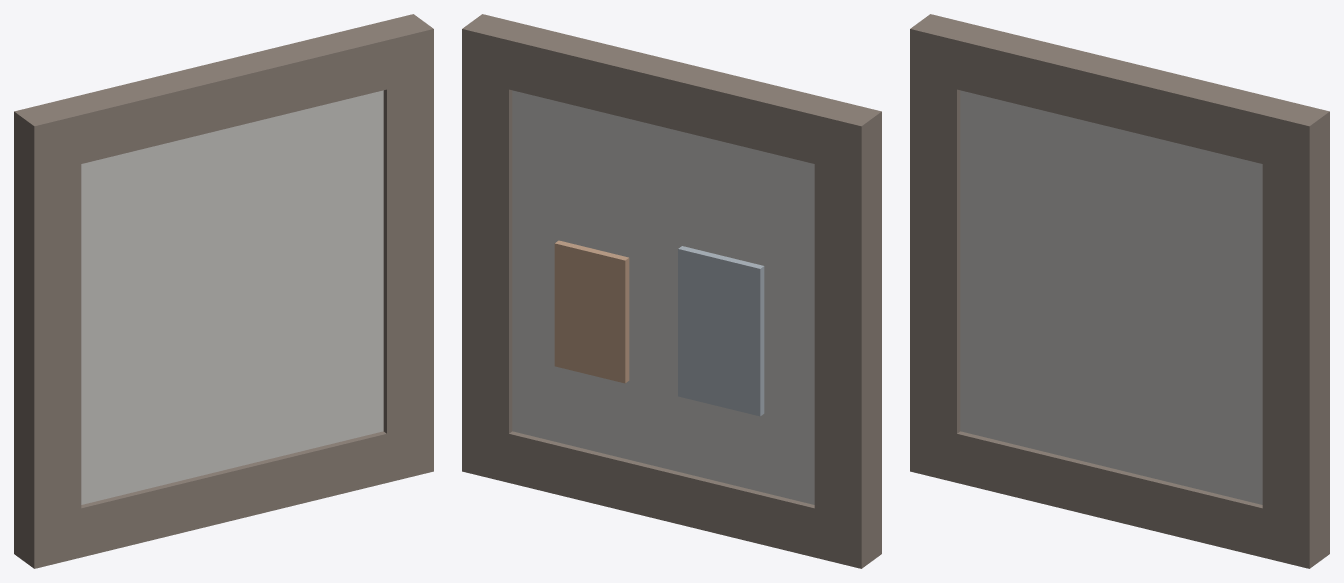
File: arte_foto_familia.glb
3 views of the same model, side by side, from view 1: azimuth 30°, elevation 25°; view 2: azimuth 150°, elevation 25°; view 3: azimuth 330°, elevation 25° (orthographic).
Parts seen in each view (by area): view 1: ARTE_FOTO_FAMILIA_v01; view 2: ARTE_FOTO_FAMILIA_v01; view 3: ARTE_FOTO_FAMILIA_v01.
Boxes of the visible parts, left/top/right/bottom form: ARTE_FOTO_FAMILIA_v01: left=14, top=14, right=433, bottom=568; ARTE_FOTO_FAMILIA_v01: left=462, top=14, right=881, bottom=568; ARTE_FOTO_FAMILIA_v01: left=910, top=14, right=1329, bottom=568.
Bounding box in the file's own units: 0.34 × 0.36 × 0.032.
